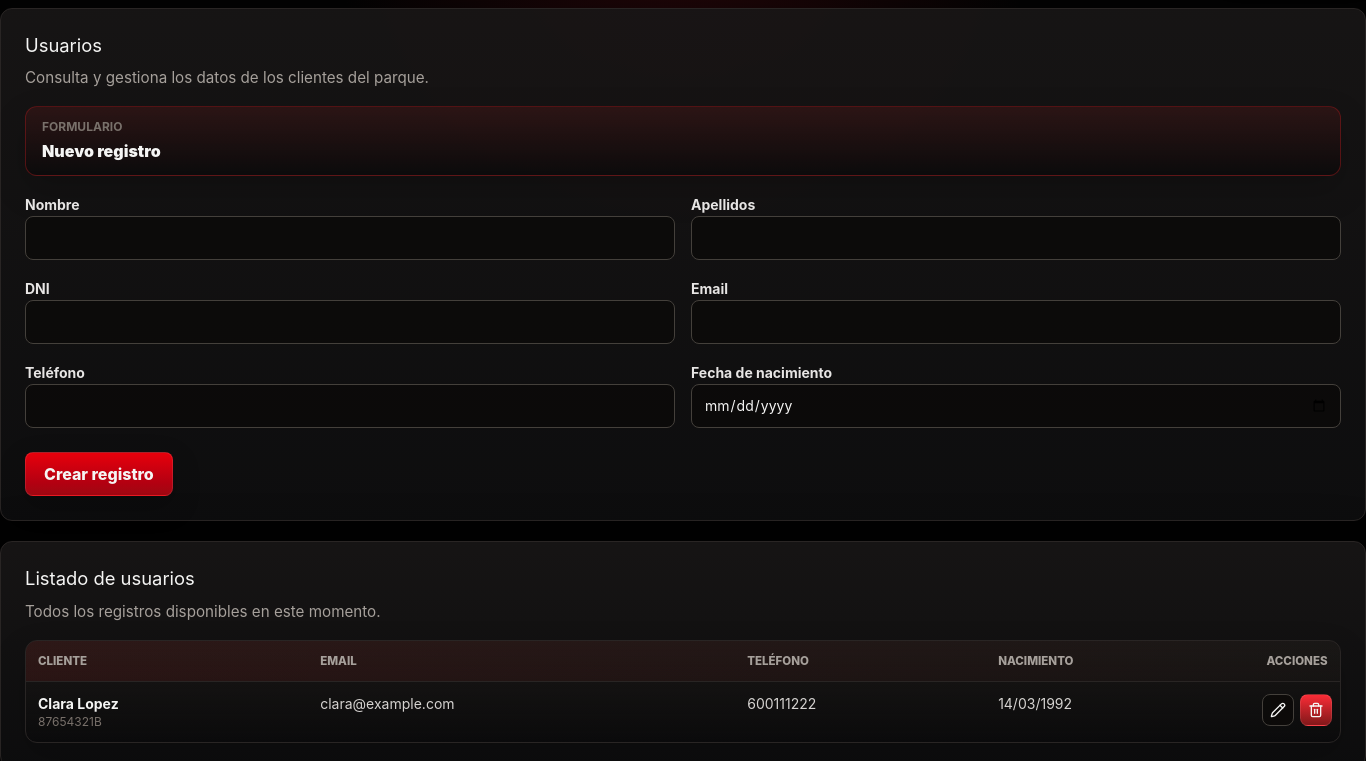
Test: DashboardPage › shows the translated update error when the entity save fails
The width and height of the screenshot is (1366, 761).
(page scrolled)
Click the button named "Editar registro": (1278, 710) [1262,694,1294,726]
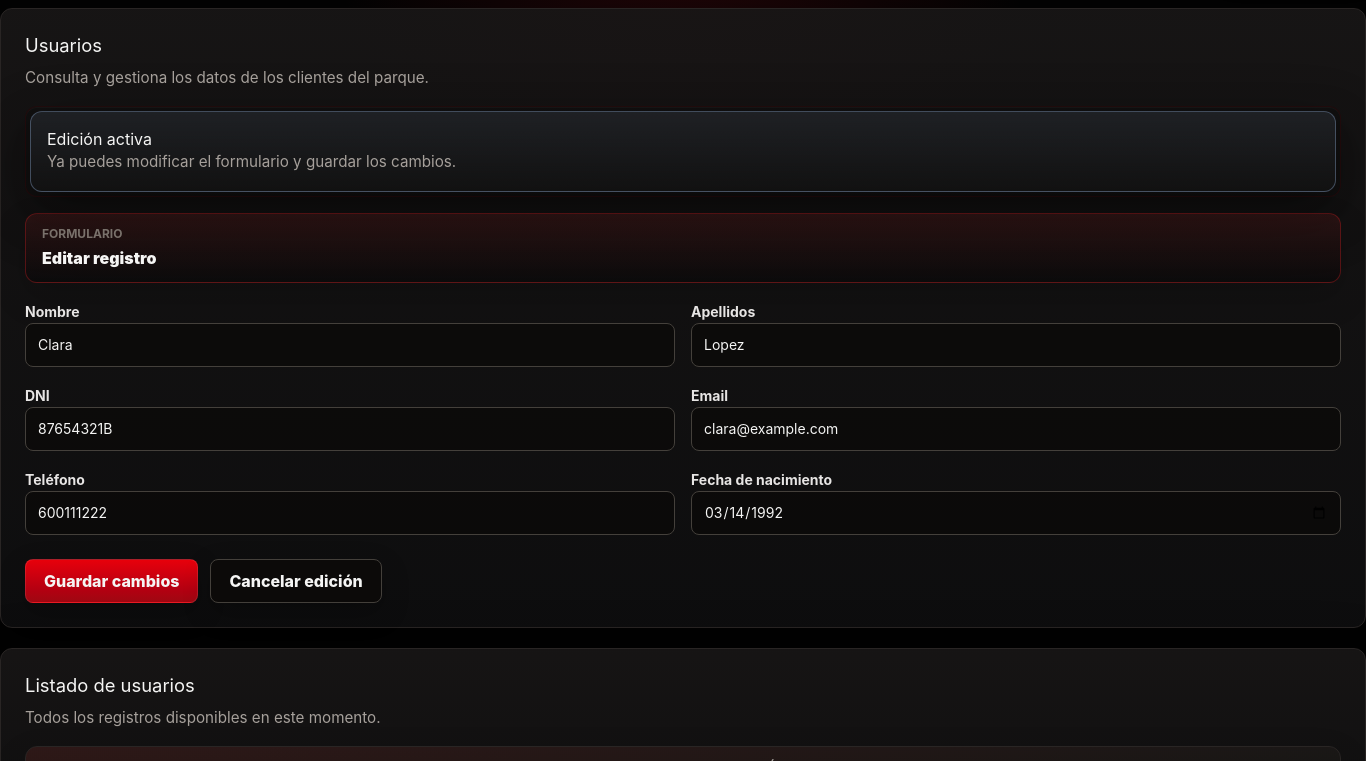
Click the button "Guardar cambios": (112, 581) [25,559,198,603]
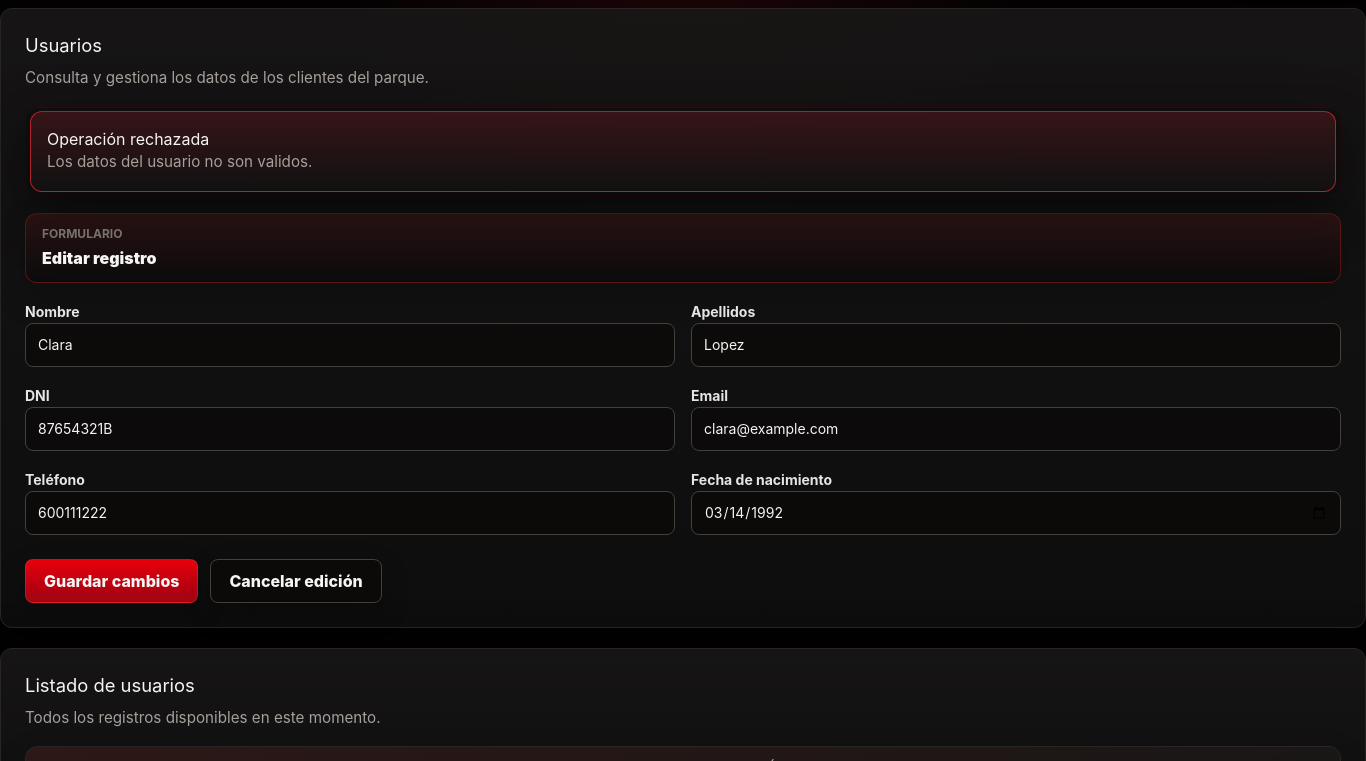
Expected: the text "Los datos del usuario no son validos." is shown, [47,152,312,171]
